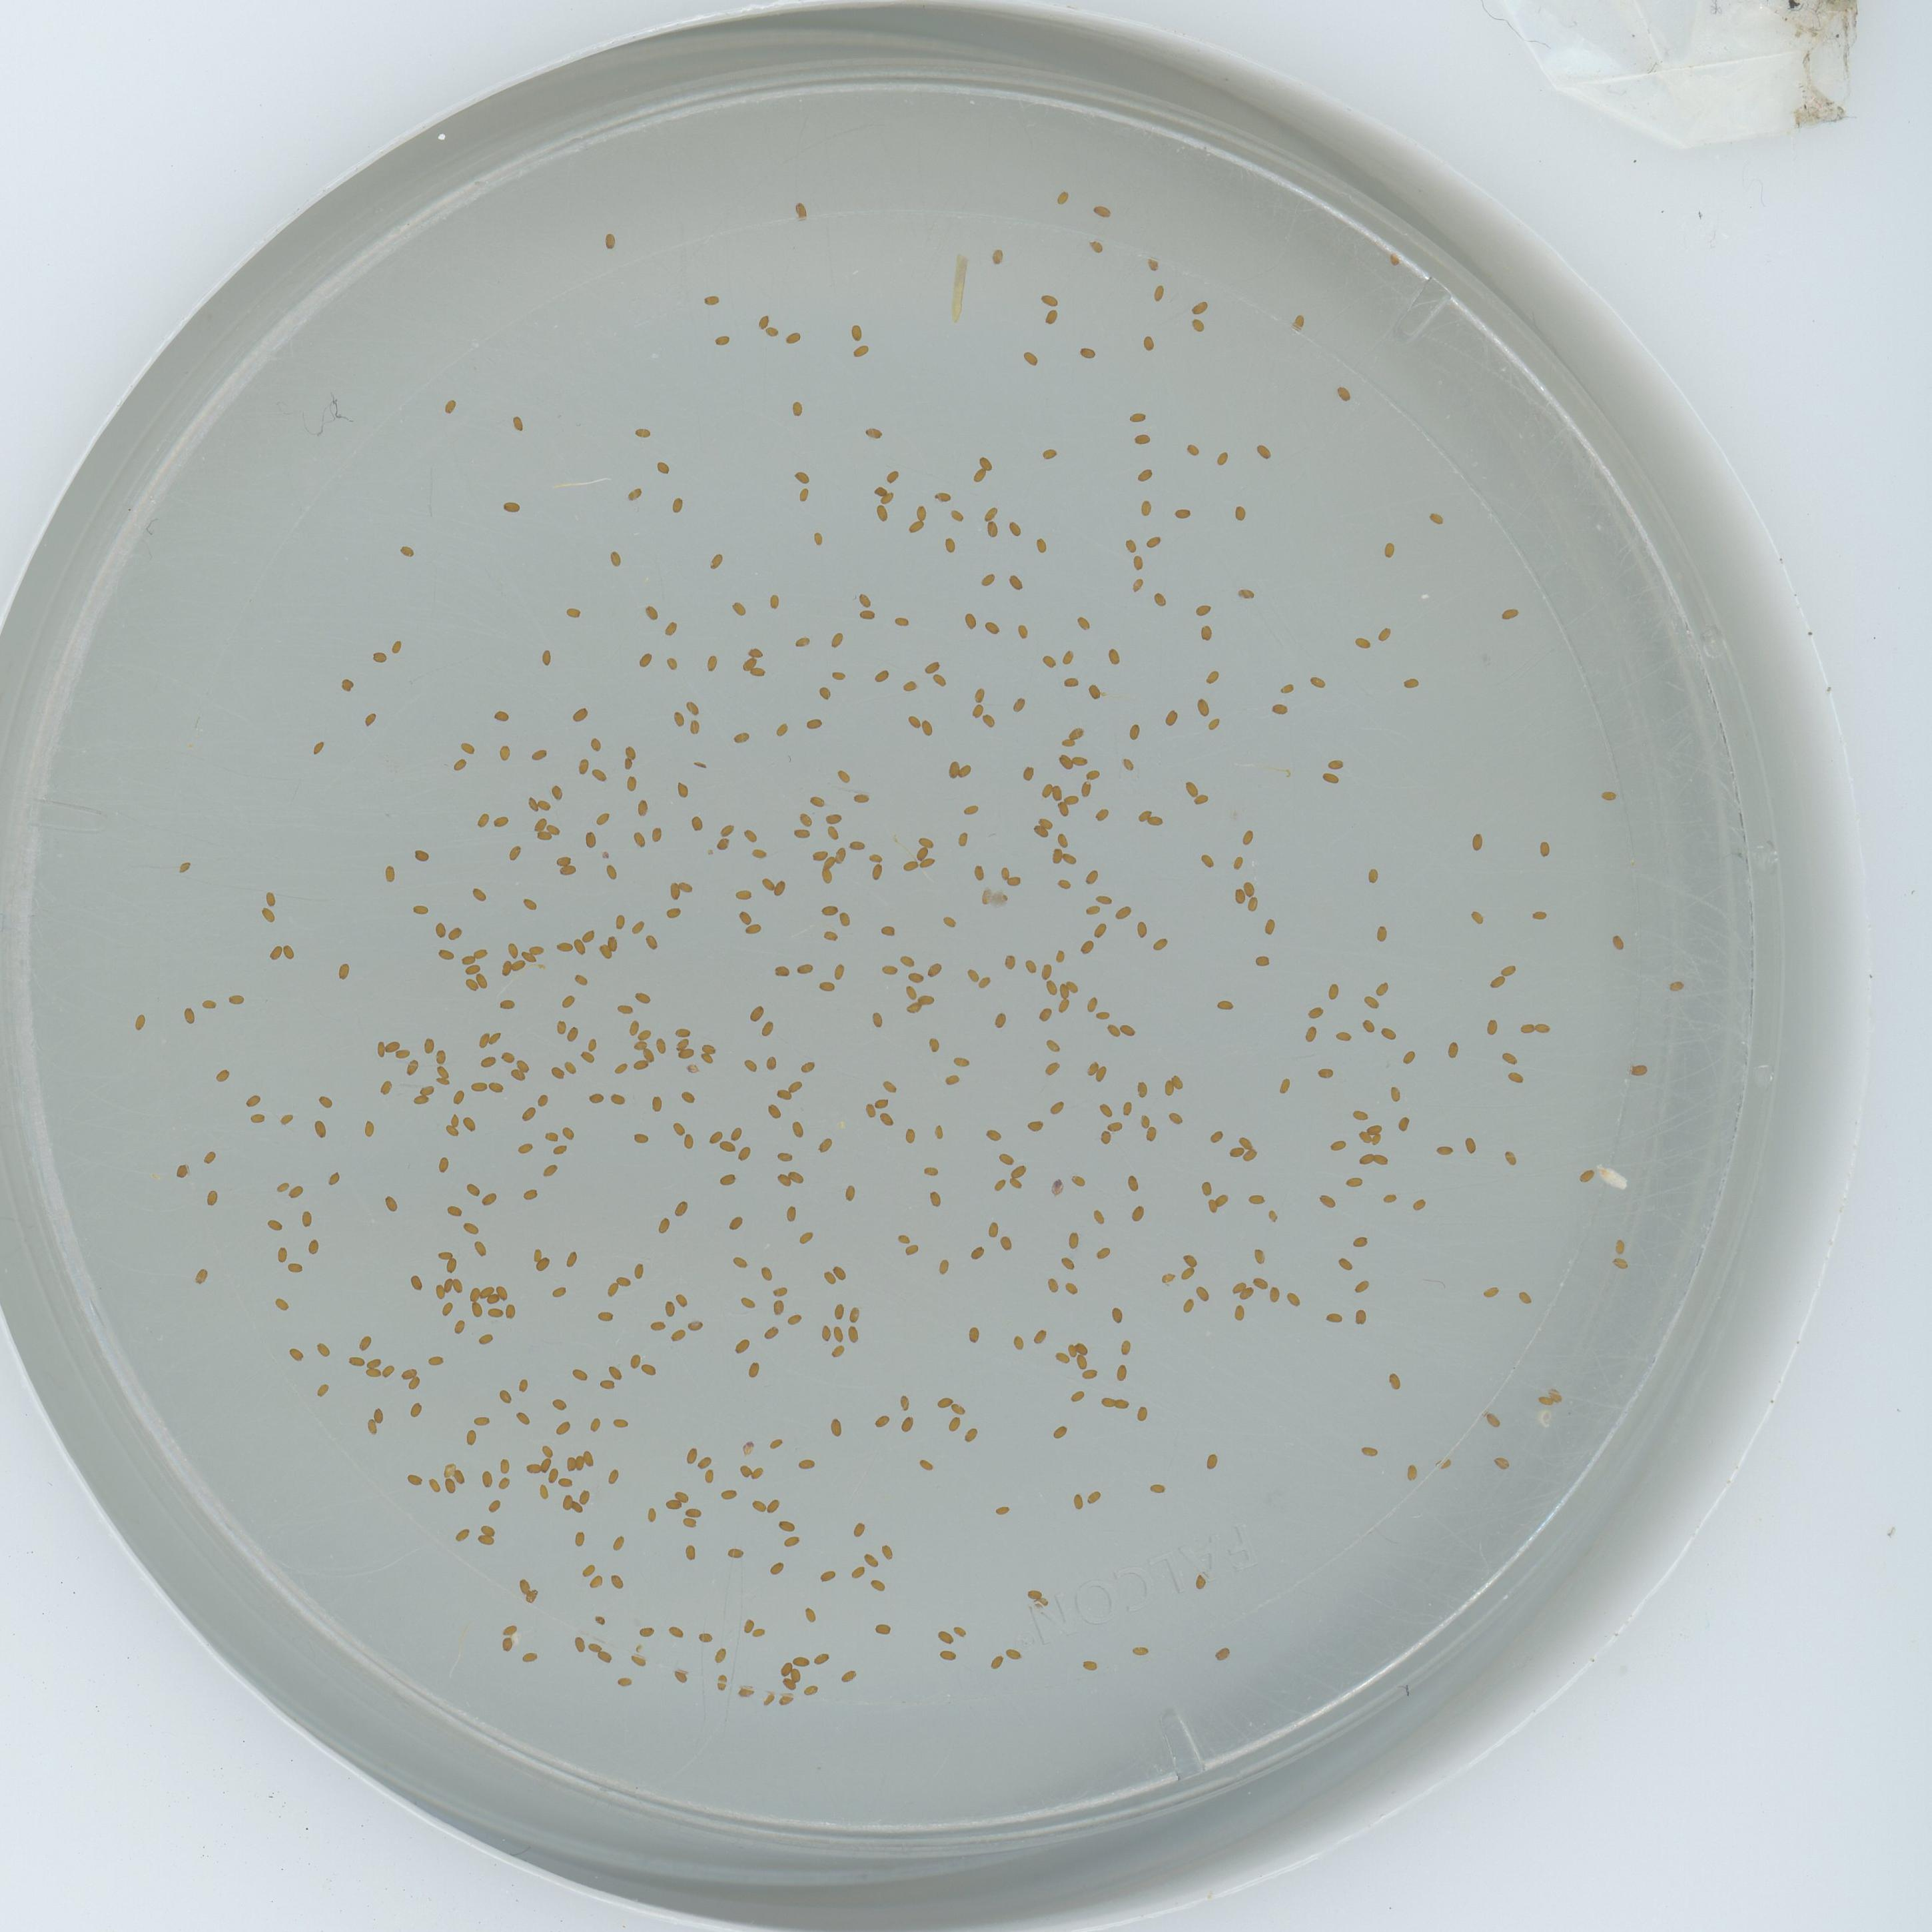seed: (310, 1116, 329, 1136), (1192, 695, 1212, 715), (1063, 1230, 1083, 1249), (1629, 1060, 1649, 1079), (1187, 295, 1208, 313), (469, 886, 488, 904), (586, 736, 605, 754), (869, 1010, 888, 1028), (817, 1134, 837, 1152), (202, 1187, 221, 1205), (899, 1414, 918, 1431), (479, 1189, 499, 1207), (766, 1100, 786, 1118), (748, 1001, 766, 1021), (828, 1417, 847, 1435), (474, 1031, 492, 1051), (1070, 1353, 1090, 1371), (1300, 1023, 1320, 1040), (1095, 1099, 1115, 1116), (1028, 1327, 1047, 1345), (1106, 1306, 1125, 1323), (1385, 1369, 1403, 1389), (372, 1039, 387, 1060), (867, 423, 885, 441), (258, 906, 276, 924), (430, 920, 448, 938), (853, 341, 870, 359), (794, 467, 812, 485), (874, 504, 892, 522), (807, 715, 824, 732), (603, 863, 621, 881), (642, 931, 660, 948), (571, 706, 589, 724), (683, 1445, 701, 1463), (895, 1392, 913, 1410), (464, 1178, 481, 1196), (179, 1005, 196, 1023), (403, 1058, 421, 1076), (449, 1086, 467, 1104), (191, 1265, 209, 1283), (361, 1118, 379, 1136), (683, 1543, 701, 1560), (656, 1214, 674, 1231), (449, 1316, 467, 1334), (297, 1208, 315, 1226), (570, 1637, 587, 1654), (672, 1198, 690, 1215), (538, 1440, 556, 1458), (936, 1628, 954, 1645), (817, 1323, 835, 1341), (747, 1361, 764, 1378), (727, 1545, 745, 1562), (1053, 832, 1070, 849), (1007, 520, 1024, 538), (982, 504, 1000, 522), (1269, 701, 1286, 718), (1364, 867, 1382, 885), (1077, 341, 1095, 359), (1104, 648, 1122, 665), (1039, 288, 1056, 306), (1031, 536, 1049, 554), (1138, 499, 1155, 517), (1150, 934, 1168, 952), (1500, 603, 1518, 621), (1468, 835, 1486, 853), (1054, 754, 1072, 771), (1192, 1283, 1210, 1300), (1230, 1302, 1247, 1320), (1058, 1253, 1076, 1270), (1118, 1019, 1136, 1037), (1483, 1281, 1500, 1299), (1049, 1422, 1067, 1440), (1352, 1306, 1369, 1323), (1024, 1115, 1042, 1132), (1040, 978, 1058, 996), (1010, 1332, 1028, 1350), (1123, 1173, 1141, 1191), (1116, 1338, 1134, 1355), (1483, 1412, 1500, 1430), (1318, 1191, 1336, 1208), (1461, 1134, 1479, 1152), (1433, 1454, 1451, 1472), (1288, 313, 1306, 331), (637, 651, 656, 667), (582, 832, 602, 847), (736, 886, 755, 902), (740, 1293, 759, 1309), (418, 1037, 437, 1053), (648, 1093, 667, 1109), (847, 1325, 863, 1345), (554, 1419, 573, 1435), (796, 959, 816, 975), (789, 1120, 809, 1136), (798, 1454, 817, 1470), (1171, 504, 1191, 520), (1007, 575, 1026, 591), (1113, 902, 1132, 918), (1090, 922, 1109, 938), (1378, 1023, 1398, 1039), (904, 715, 922, 731), (644, 603, 660, 621), (610, 913, 628, 929), (741, 828, 759, 844), (798, 810, 816, 826), (732, 729, 750, 745), (451, 757, 469, 773), (495, 745, 513, 761), (924, 658, 941, 674), (458, 740, 476, 755), (412, 847, 430, 863), (685, 699, 702, 715), (869, 865, 886, 881), (591, 766, 609, 782), (823, 901, 839, 918), (704, 656, 722, 672), (265, 943, 281, 961), (881, 922, 899, 938), (502, 497, 520, 513), (824, 826, 842, 842), (828, 632, 846, 648), (853, 791, 870, 807), (410, 901, 428, 916), (860, 609, 878, 625), (380, 865, 396, 883), (773, 879, 789, 897), (731, 600, 748, 616), (847, 324, 865, 340), (837, 768, 855, 784), (531, 747, 548, 763), (571, 939, 589, 955), (474, 812, 492, 828), (548, 784, 566, 800), (633, 801, 651, 817), (437, 945, 455, 961), (826, 810, 844, 826), (665, 883, 683, 899), (510, 416, 527, 432), (441, 398, 458, 414), (602, 232, 619, 248), (506, 846, 524, 862), (674, 782, 692, 798), (462, 1219, 479, 1235), (722, 1484, 740, 1500), (287, 1258, 303, 1276), (778, 1516, 796, 1532), (639, 1622, 656, 1638), (225, 991, 242, 1007), (667, 1624, 685, 1640), (315, 1092, 333, 1108), (272, 1293, 290, 1309), (674, 1290, 692, 1306), (550, 1283, 568, 1299), (798, 1228, 816, 1244), (587, 1088, 605, 1104), (244, 1090, 262, 1106), (874, 1619, 892, 1635), (405, 1470, 423, 1486), (584, 1035, 602, 1051), (849, 1564, 867, 1580), (472, 1412, 490, 1428), (464, 1428, 479, 1445), (879, 1543, 897, 1559), (870, 1576, 888, 1592), (437, 1300, 455, 1316), (727, 1214, 745, 1230), (821, 1270, 839, 1286), (840, 1668, 858, 1684), (605, 1468, 623, 1484), (356, 1334, 373, 1350), (759, 1265, 777, 1281), (750, 1497, 768, 1513), (432, 1047, 449, 1063), (287, 1346, 304, 1362), (697, 1629, 715, 1645), (720, 1168, 736, 1185), (409, 1274, 426, 1290), (759, 1019, 777, 1035), (736, 1336, 754, 1352), (777, 1146, 794, 1162), (520, 1104, 538, 1120), (743, 1056, 761, 1072), (248, 1109, 265, 1125), (736, 1145, 754, 1161), (773, 1281, 791, 1297), (212, 1065, 230, 1081), (793, 1651, 810, 1667), (770, 1560, 787, 1576), (426, 1350, 444, 1366), (564, 1249, 580, 1267), (632, 1129, 649, 1145), (672, 1668, 690, 1684), (814, 1651, 832, 1667), (541, 1161, 559, 1177), (550, 1396, 568, 1412), (380, 1194, 398, 1210), (925, 1191, 943, 1207), (577, 1488, 594, 1504), (842, 1184, 860, 1200), (517, 1138, 534, 1154), (732, 1253, 750, 1269), (902, 1125, 918, 1143), (685, 1502, 702, 1518), (513, 1376, 531, 1392), (784, 1532, 800, 1550), (265, 1215, 283, 1231), (596, 1307, 614, 1323), (377, 1079, 395, 1095), (927, 961, 945, 977), (662, 1300, 679, 1316), (587, 1575, 605, 1591), (803, 1606, 821, 1622), (630, 1652, 648, 1668), (701, 1468, 718, 1484), (803, 1683, 821, 1698), (200, 1148, 218, 1164), (821, 1566, 839, 1582), (172, 1161, 189, 1177), (478, 1520, 495, 1536), (800, 1056, 817, 1072), (895, 1228, 913, 1244), (784, 1205, 801, 1221), (313, 1341, 331, 1357), (566, 1024, 582, 1042), (740, 1617, 755, 1635), (508, 1067, 525, 1083), (778, 1691, 796, 1707), (515, 1576, 531, 1594), (497, 1283, 513, 1300), (775, 1085, 793, 1100), (639, 1047, 656, 1063), (715, 1672, 731, 1690), (1070, 754, 1088, 770), (1373, 924, 1389, 941), (1060, 674, 1077, 690), (1201, 669, 1219, 685), (1053, 803, 1070, 819), (1251, 950, 1269, 966), (1040, 308, 1058, 324), (1198, 853, 1215, 869), (1196, 625, 1214, 640), (1373, 626, 1391, 642), (1231, 504, 1249, 520), (984, 619, 1001, 635), (985, 520, 1001, 538), (1150, 283, 1166, 301), (1322, 771, 1339, 787), (1380, 541, 1398, 557), (1353, 635, 1371, 651), (1132, 920, 1150, 936), (1076, 782, 1093, 798), (1092, 807, 1109, 823), (1122, 538, 1139, 554), (1092, 202, 1109, 218), (1468, 908, 1486, 924), (1192, 602, 1210, 617), (1238, 830, 1256, 846), (1127, 577, 1145, 593), (1081, 870, 1099, 886), (1182, 780, 1198, 798), (1237, 586, 1254, 602), (1253, 442, 1270, 458), (1035, 782, 1051, 800), (1334, 386, 1352, 402), (1385, 251, 1401, 269), (959, 764, 975, 782), (1399, 1047, 1417, 1063), (1336, 1254, 1353, 1270), (1116, 1099, 1134, 1115), (993, 1502, 1010, 1518), (1042, 1058, 1058, 1076), (1500, 1047, 1518, 1063), (987, 1654, 1005, 1670), (1191, 1573, 1208, 1589), (1083, 994, 1099, 1012), (1106, 1116, 1123, 1132), (1132, 1405, 1150, 1421), (1042, 1276, 1060, 1292), (1355, 1152, 1373, 1168), (1023, 1585, 1040, 1601), (1283, 1290, 1300, 1306), (1249, 1249, 1267, 1265), (1201, 1453, 1219, 1468), (1079, 1366, 1097, 1382), (1111, 1364, 1129, 1380), (1316, 1062, 1334, 1077), (1362, 993, 1380, 1008), (1323, 982, 1341, 998), (1047, 1097, 1063, 1115), (1247, 1191, 1265, 1207), (1387, 1083, 1403, 1100), (1325, 1307, 1343, 1323), (1180, 1251, 1198, 1267), (1410, 1196, 1428, 1212), (1306, 1003, 1323, 1019), (1035, 1005, 1053, 1021), (1129, 1203, 1146, 1219), (1345, 1171, 1362, 1187), (1359, 1016, 1376, 1031), (1445, 1039, 1461, 1056), (1003, 1645, 1021, 1661), (1329, 1136, 1346, 1152), (1491, 1454, 1509, 1470), (1548, 1387, 1564, 1405), (1668, 978, 1686, 994), (759, 1690, 777, 1706), (899, 954, 918, 968), (943, 761, 957, 780), (655, 1035, 669, 1054), (1352, 1279, 1371, 1293), (1083, 1058, 1097, 1077), (978, 886, 993, 906), (885, 469, 901, 485), (796, 487, 812, 502), (594, 810, 610, 826), (812, 847, 828, 863), (372, 648, 387, 663), (893, 614, 909, 630), (941, 536, 957, 552), (389, 639, 405, 655), (931, 672, 947, 688), (632, 832, 648, 847), (759, 878, 775, 893), (494, 708, 510, 724), (810, 794, 826, 810), (688, 816, 704, 832), (936, 488, 952, 504), (575, 759, 591, 775), (738, 909, 754, 925), (663, 621, 679, 637), (671, 497, 686, 513), (494, 814, 510, 830), (628, 485, 644, 501), (625, 775, 640, 791), (817, 685, 833, 701), (715, 333, 731, 349), (708, 554, 724, 570), (913, 504, 929, 520), (665, 906, 681, 922), (794, 633, 810, 649), (632, 918, 648, 934), (262, 892, 278, 908), (768, 594, 784, 610), (596, 943, 612, 959), (672, 711, 688, 727), (941, 913, 957, 929), (281, 943, 297, 959), (837, 911, 853, 927), (821, 870, 837, 886), (791, 400, 807, 416), (540, 649, 556, 665), (635, 425, 651, 441), (649, 828, 665, 844), (704, 290, 720, 306), (832, 667, 847, 683), (869, 849, 885, 865), (775, 722, 791, 738), (764, 324, 780, 340), (920, 720, 936, 736), (538, 796, 554, 812), (688, 720, 704, 736), (504, 941, 520, 957), (623, 745, 639, 761), (955, 832, 971, 847), (794, 202, 810, 218), (729, 1123, 745, 1139), (444, 1256, 460, 1272), (499, 1047, 515, 1063), (561, 1123, 577, 1139), (771, 1299, 787, 1315), (876, 1412, 892, 1428), (847, 1306, 863, 1322), (487, 1499, 502, 1514), (272, 1244, 288, 1260), (626, 1352, 642, 1368), (515, 1410, 531, 1426), (446, 1201, 462, 1217), (288, 1184, 304, 1200), (497, 1387, 513, 1403), (349, 1352, 364, 1368), (534, 1090, 550, 1106), (504, 1302, 520, 1318), (610, 1536, 626, 1552), (851, 1520, 867, 1536), (879, 1109, 895, 1125), (552, 1017, 568, 1033), (741, 1438, 757, 1454), (671, 1120, 686, 1136), (787, 1311, 803, 1327), (304, 1237, 320, 1253), (571, 1530, 587, 1546), (764, 1323, 780, 1339), (612, 1414, 628, 1430), (607, 1362, 623, 1378), (688, 1316, 704, 1332), (832, 1343, 847, 1359), (713, 1645, 729, 1661), (702, 1037, 718, 1053), (543, 1127, 559, 1143), (435, 1155, 451, 1171), (610, 1088, 626, 1104), (326, 1169, 341, 1185), (469, 1300, 485, 1316), (497, 1458, 513, 1474), (614, 1058, 630, 1074), (947, 1415, 962, 1431), (791, 1168, 807, 1184), (313, 1380, 329, 1396), (752, 1465, 768, 1481), (945, 1070, 961, 1086), (407, 1401, 423, 1417), (497, 1476, 513, 1491), (699, 1454, 715, 1470), (534, 1256, 550, 1272), (833, 1263, 849, 1279), (738, 1463, 754, 1479), (571, 1366, 587, 1382), (651, 1316, 667, 1332), (683, 1516, 699, 1532), (768, 1497, 784, 1513), (488, 1077, 504, 1093), (936, 1258, 952, 1274), (488, 1028, 504, 1044), (548, 1063, 564, 1079), (863, 1552, 879, 1568), (616, 1674, 632, 1690), (407, 1376, 423, 1392), (131, 1014, 147, 1030), (832, 1300, 847, 1316), (883, 1076, 899, 1092), (478, 1470, 494, 1486), (363, 1364, 379, 1380), (931, 1122, 947, 1138), (775, 1171, 791, 1187), (918, 1456, 934, 1472), (522, 1185, 538, 1201), (462, 1115, 478, 1131), (278, 1109, 294, 1125), (552, 1141, 568, 1157), (681, 1132, 697, 1148), (363, 1419, 379, 1435), (274, 1177, 290, 1192), (610, 1573, 626, 1589), (603, 1281, 619, 1297), (426, 1477, 442, 1493), (764, 1053, 780, 1069), (580, 1562, 596, 1578), (593, 1612, 609, 1628), (582, 1451, 598, 1467), (453, 1525, 469, 1541), (1403, 674, 1419, 690), (1228, 856, 1244, 872), (1039, 653, 1054, 669), (1083, 902, 1099, 918), (1010, 697, 1026, 713), (1145, 533, 1161, 548), (1136, 467, 1152, 483), (1125, 724, 1141, 740), (980, 571, 996, 587), (971, 686, 987, 702), (1309, 674, 1325, 690), (1014, 623, 1030, 639), (1162, 709, 1178, 725), (977, 453, 993, 469), (1069, 725, 1085, 741), (1129, 407, 1145, 423), (1120, 755, 1136, 771), (1537, 842, 1553, 858), (1532, 906, 1548, 922), (1074, 616, 1090, 632), (1007, 874, 1023, 890), (1054, 878, 1070, 893), (1244, 897, 1260, 913), (1129, 554, 1145, 570), (1023, 350, 1039, 366), (1150, 591, 1166, 607), (971, 867, 987, 883), (1139, 334, 1155, 350), (1083, 766, 1099, 782), (1053, 188, 1069, 203), (1189, 317, 1205, 333), (1428, 510, 1444, 525), (1085, 685, 1100, 701), (970, 704, 985, 720), (1205, 715, 1221, 731), (1610, 934, 1626, 950), (1086, 237, 1102, 253), (1375, 980, 1391, 996), (991, 1177, 1007, 1192), (998, 1150, 1014, 1166), (970, 1244, 985, 1260), (998, 1233, 1014, 1249), (1253, 1274, 1269, 1290), (1214, 1645, 1230, 1661), (1069, 1171, 1085, 1187), (1044, 1035, 1060, 1051), (1276, 1076, 1292, 1092), (1180, 1297, 1196, 1313), (1265, 1284, 1281, 1300), (1069, 1493, 1085, 1509), (1198, 1178, 1214, 1194), (1085, 1488, 1100, 1504), (1159, 1269, 1175, 1284), (1483, 1017, 1499, 1033), (991, 1012, 1007, 1028), (1090, 1207, 1106, 1223), (1580, 1166, 1596, 1182), (1507, 1069, 1523, 1085), (1113, 1394, 1129, 1410), (1099, 1392, 1115, 1408), (966, 1325, 982, 1341), (1214, 1191, 1230, 1207), (1062, 1279, 1077, 1295), (1131, 1644, 1146, 1660), (1093, 1244, 1109, 1260), (1093, 1067, 1109, 1083), (1166, 1109, 1182, 1125), (1079, 1656, 1095, 1672), (1008, 1175, 1024, 1191), (1361, 1442, 1376, 1458), (1141, 1125, 1157, 1141), (1132, 1079, 1148, 1095), (1074, 1338, 1090, 1353), (1263, 1207, 1279, 1223), (1403, 1465, 1419, 1481), (1537, 1394, 1553, 1410), (481, 1283, 497, 1299), (520, 897, 538, 911), (361, 711, 379, 725), (902, 860, 920, 874), (564, 605, 582, 619), (849, 839, 867, 853), (794, 828, 812, 842), (835, 846, 849, 863), (747, 644, 764, 658), (715, 839, 732, 853), (607, 552, 625, 566), (872, 483, 890, 497), (901, 679, 918, 694), (745, 922, 763, 936), (740, 658, 757, 672), (520, 950, 538, 964), (479, 1053, 497, 1067), (674, 1023, 692, 1037), (469, 1077, 487, 1092), (334, 966, 352, 980), (665, 1499, 683, 1513), (640, 1362, 658, 1376), (557, 1493, 571, 1511), (633, 989, 651, 1003), (520, 1649, 538, 1663), (616, 1272, 633, 1286), (499, 1638, 517, 1652), (819, 978, 837, 993), (626, 1016, 640, 1033), (674, 1486, 692, 1500), (579, 1049, 596, 1063), (393, 1044, 410, 1058), (476, 1532, 494, 1546), (635, 1024, 653, 1039), (435, 1074, 453, 1088), (738, 1684, 755, 1698), (1327, 757, 1345, 771), (1003, 952, 1017, 970), (1132, 432, 1150, 446), (1260, 920, 1277, 934), (1019, 766, 1037, 780), (1093, 893, 1111, 908), (1039, 446, 1056, 460), (1060, 853, 1077, 867), (1599, 789, 1617, 803), (1010, 1161, 1028, 1175), (1435, 1141, 1453, 1155), (1215, 996, 1233, 1010), (1352, 1233, 1369, 1247), (1067, 1387, 1085, 1401), (1051, 1350, 1069, 1364), (1177, 1267, 1194, 1281), (1334, 1028, 1352, 1042), (1371, 1150, 1389, 1164), (1502, 1150, 1520, 1164), (1058, 982, 1072, 1000), (1031, 1598, 1049, 1612), (416, 1081, 435, 1093), (858, 593, 874, 607), (556, 939, 571, 954), (398, 543, 414, 557), (948, 508, 964, 522), (876, 669, 892, 683), (531, 817, 547, 832), (556, 853, 571, 867), (720, 823, 736, 837), (656, 460, 672, 474), (529, 941, 545, 955), (448, 925, 464, 939), (908, 520, 924, 534), (918, 833, 934, 847), (338, 678, 354, 692), (679, 879, 695, 893), (663, 656, 679, 671), (310, 741, 326, 755), (787, 329, 803, 343), (547, 823, 563, 837), (810, 531, 826, 545), (580, 927, 596, 941), (752, 847, 768, 862), (824, 927, 840, 941), (561, 863, 577, 878), (750, 665, 766, 679), (524, 794, 538, 810), (607, 936, 621, 952), (458, 952, 474, 966), (904, 984, 920, 998), (782, 1677, 798, 1691), (708, 1127, 724, 1141), (200, 996, 216, 1010), (600, 1378, 616, 1392), (777, 1661, 793, 1675), (487, 1306, 502, 1320), (925, 1037, 941, 1051), (587, 1417, 603, 1431), (632, 1263, 648, 1277), (681, 1088, 697, 1102), (557, 1476, 573, 1490), (499, 996, 515, 1010), (478, 1330, 494, 1345), (402, 1364, 418, 1378), (644, 1507, 660, 1522), (950, 1624, 966, 1638), (573, 971, 589, 985), (938, 1392, 952, 1408), (559, 994, 575, 1008), (617, 1001, 633, 1016), (545, 1468, 561, 1483), (502, 1622, 518, 1637), (472, 1240, 488, 1254), (596, 1651, 612, 1665), (380, 1362, 395, 1378), (876, 1093, 892, 1108), (918, 993, 934, 1007), (863, 1102, 879, 1116), (671, 1329, 686, 1343), (768, 1435, 784, 1449), (564, 1058, 580, 1072), (904, 1242, 920, 1256), (952, 1051, 966, 1067), (384, 1035, 400, 1049), (442, 1477, 456, 1493), (908, 970, 924, 984), (517, 1054, 531, 1070), (752, 1626, 768, 1640), (832, 964, 846, 980), (789, 1076, 803, 1092), (437, 1247, 453, 1261), (372, 1405, 386, 1421), (433, 1063, 449, 1077), (524, 1461, 540, 1476), (924, 1162, 939, 1177), (833, 1325, 847, 1341), (462, 977, 478, 991), (524, 1589, 540, 1603), (1231, 890, 1246, 906), (1047, 849, 1062, 865), (1079, 938, 1093, 954), (1031, 826, 1047, 840), (1279, 681, 1295, 695), (1214, 451, 1230, 465), (1146, 816, 1162, 830), (1242, 883, 1256, 899), (980, 715, 996, 729), (964, 803, 980, 817), (1192, 794, 1208, 809), (1053, 947, 1067, 962), (1184, 442, 1200, 456), (1058, 651, 1074, 665), (1049, 786, 1063, 801), (1037, 817, 1053, 832), (971, 469, 987, 483), (996, 867, 1012, 881), (1145, 257, 1161, 271), (989, 248, 1005, 262), (1352, 1106, 1368, 1120), (1104, 1023, 1120, 1037), (1148, 1481, 1164, 1495), (1093, 1008, 1109, 1023), (1171, 1074, 1185, 1090), (1382, 1189, 1398, 1203), (1536, 1019, 1552, 1033), (1518, 1019, 1534, 1033), (1037, 966, 1053, 980), (1394, 1115, 1410, 1129), (1238, 1284, 1254, 1299), (985, 1223, 1001, 1237), (985, 1125, 1001, 1139), (1136, 1113, 1150, 1129), (1516, 1290, 1532, 1304), (1237, 1132, 1253, 1146), (1054, 998, 1070, 1012), (1095, 1129, 1111, 1143), (1242, 1148, 1258, 1162), (1207, 1129, 1223, 1143), (966, 1426, 980, 1442), (1614, 1256, 1629, 1270), (1231, 1279, 1246, 1295), (1063, 1341, 1077, 1357), (1023, 957, 1037, 973), (1355, 1129, 1371, 1143), (1614, 1238, 1629, 1253), (511, 959, 527, 973), (534, 833, 552, 846), (718, 1139, 736, 1152), (632, 1058, 649, 1070), (775, 966, 793, 978), (474, 975, 492, 987), (586, 1640, 603, 1652), (1058, 738, 1076, 750), (1065, 980, 1083, 993), (1500, 966, 1520, 977), (575, 1454, 586, 1474), (757, 313, 771, 327), (915, 847, 929, 862), (621, 757, 635, 771), (881, 490, 895, 504), (474, 945, 488, 959), (487, 1292, 501, 1306), (368, 1353, 382, 1368), (950, 1401, 964, 1415), (536, 1484, 550, 1499), (941, 1649, 955, 1663), (467, 1286, 481, 1300), (444, 1123, 458, 1138), (446, 1111, 460, 1125), (432, 1284, 446, 1299), (1063, 794, 1077, 809), (1136, 809, 1150, 823), (1368, 1120, 1382, 1134), (1201, 1198, 1215, 1212), (966, 968, 980, 982), (1369, 1132, 1384, 1146), (920, 858, 936, 870), (823, 858, 839, 870), (175, 862, 191, 874), (674, 1040, 690, 1053), (412, 1093, 428, 1106), (455, 1468, 467, 1484), (906, 1001, 922, 1014), (540, 1456, 552, 1472), (563, 1454, 575, 1470), (699, 1051, 715, 1063), (499, 961, 511, 977), (1490, 975, 1506, 987), (1226, 1145, 1242, 1157), (883, 966, 901, 977), (678, 1049, 695, 1060), (570, 1502, 584, 1514), (632, 1037, 646, 1049), (1161, 1081, 1173, 1095), (977, 975, 991, 987), (453, 1277, 464, 1293), (966, 612, 977, 628), (444, 1277, 455, 1293), (793, 1670, 807, 1681), (531, 1247, 541, 1260), (467, 964, 479, 975)
